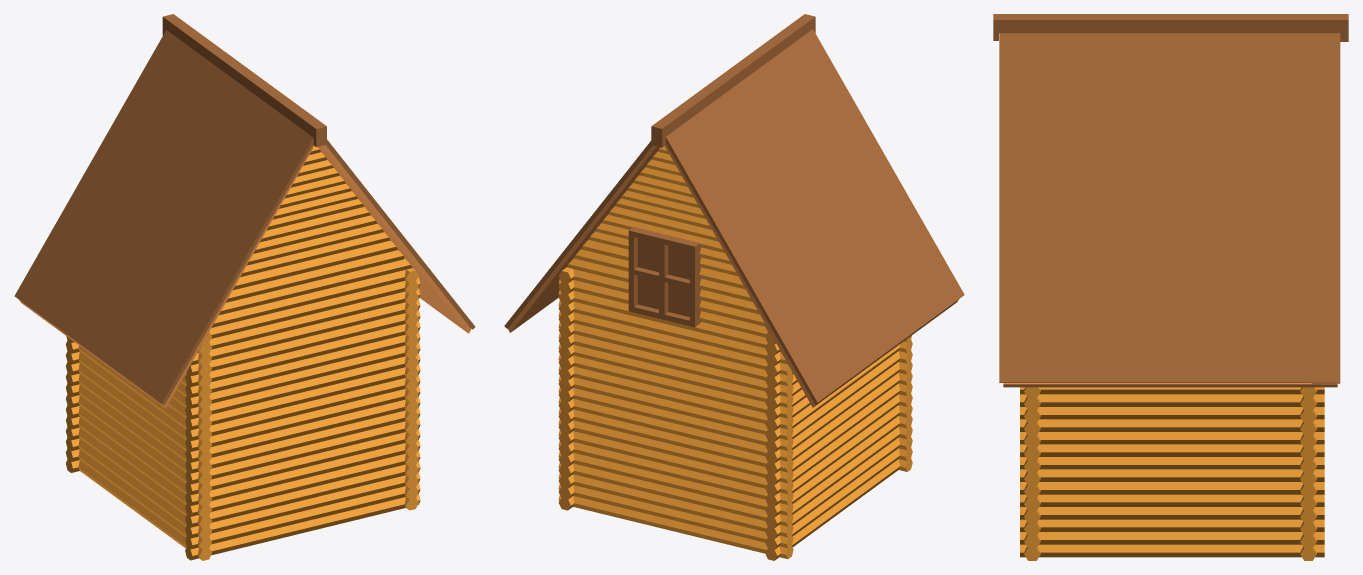
File: Environment_Cabin.fbx
The picture shows the model from 3 angles, left to right: view 1: azimuth 30°, elevation 25°; view 2: azimuth 150°, elevation 25°; view 3: azimuth 270°, elevation 25°; orthographic projection. The views are drawn at different scales.
Parts seen in each view (by area): view 1: Cube; view 2: Cube; view 3: Cube.
Boxes of the visible parts, x1,y1,x2,y2 form: Cube: [14, 14, 475, 560]; Cube: [504, 14, 964, 560]; Cube: [993, 14, 1348, 560].
Size of the model in its own units: 1408 by 1780 by 1193.
